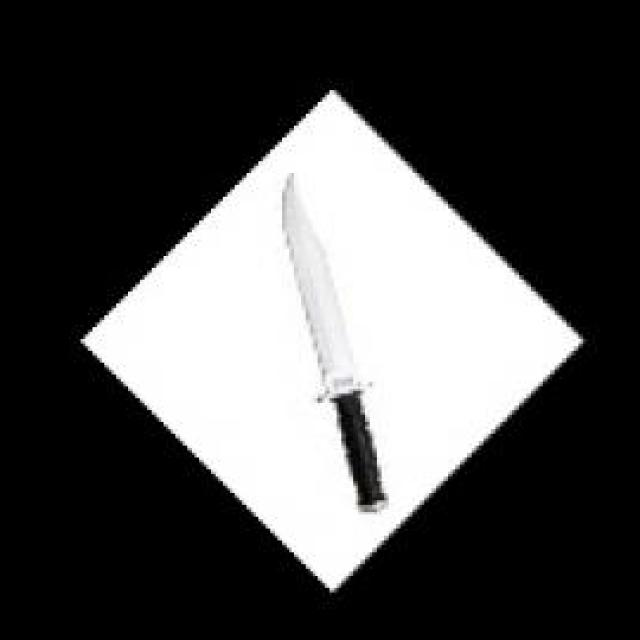knife: (275, 168, 390, 520)
